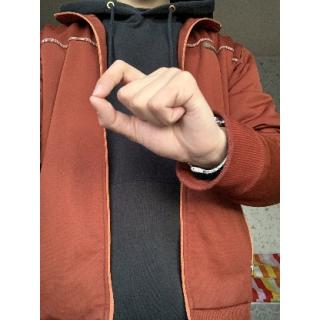FAA: (84, 57, 229, 170)
